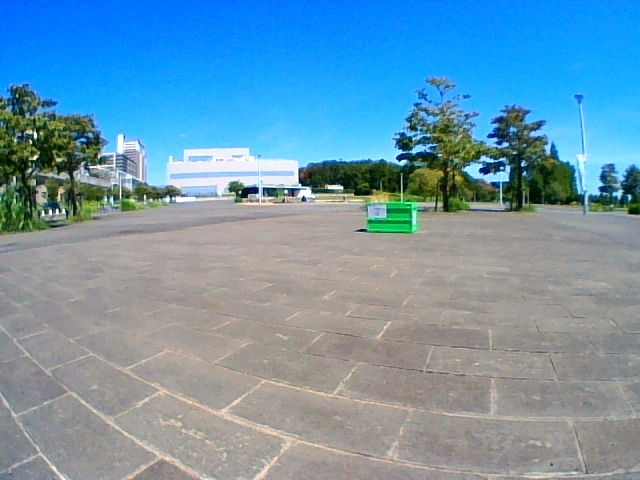green_box: (366, 202, 416, 232)
tag: (368, 204, 386, 218)
